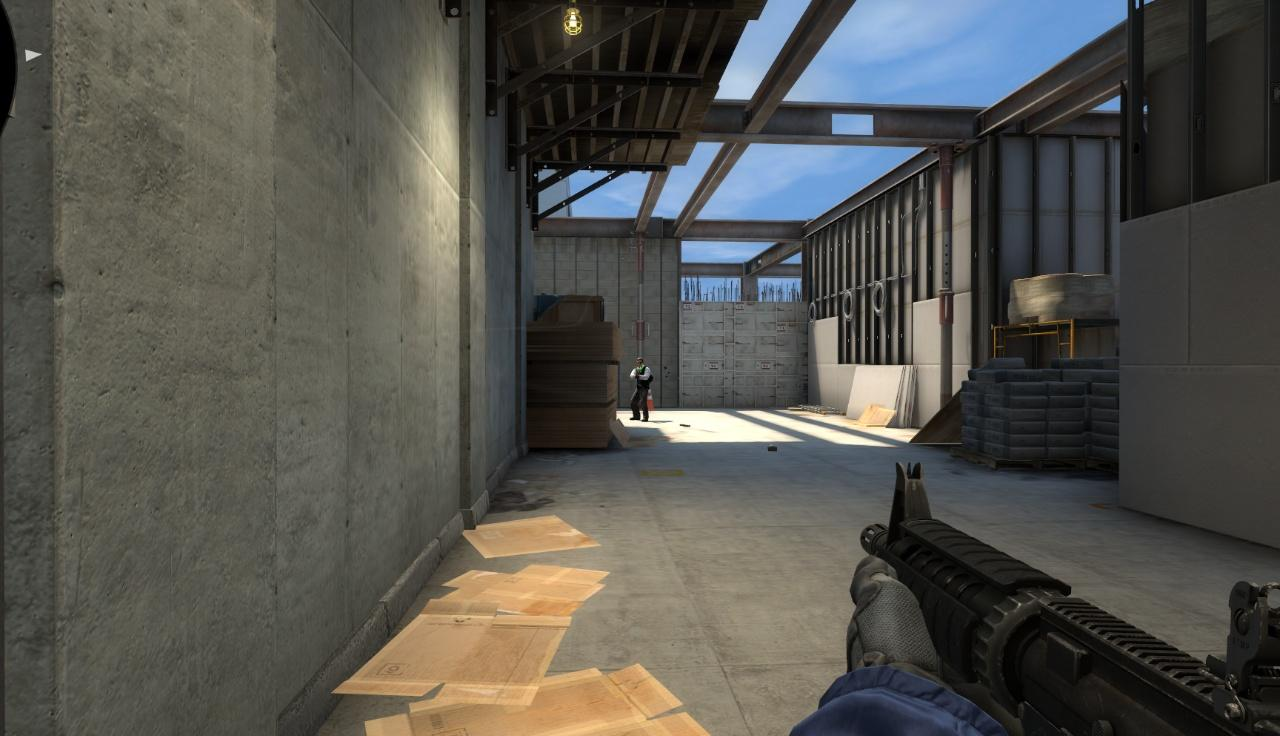rifle: (848, 457, 1280, 736)
tt: (631, 358, 650, 420)
tthead: (636, 359, 644, 368)
